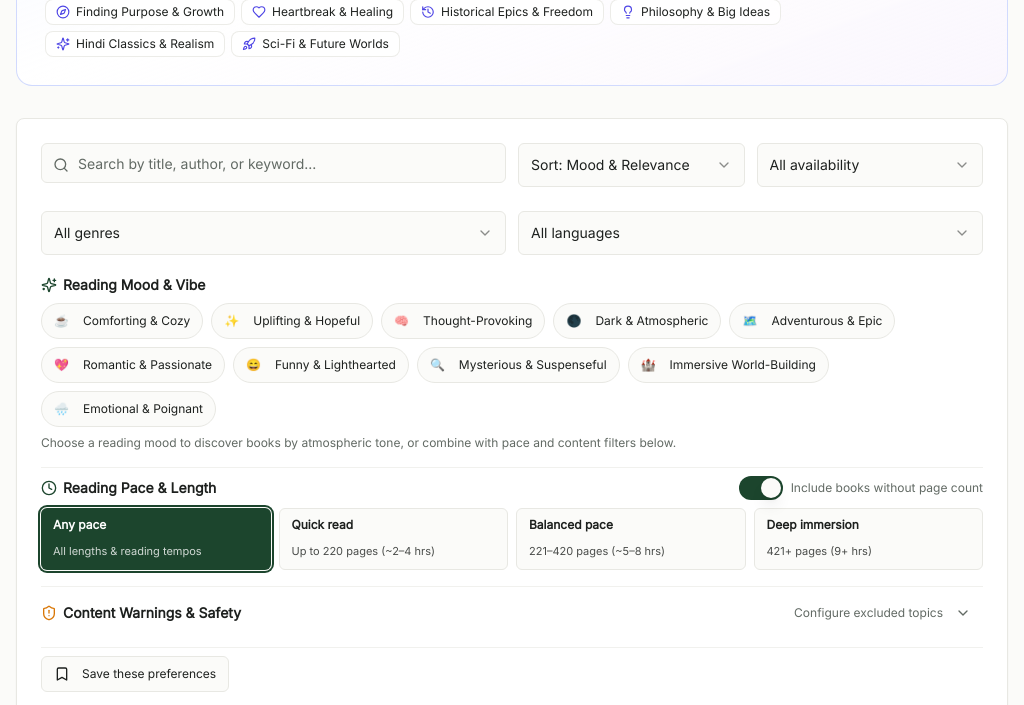
Test case: Discovery Page with Mood & Pace Filters › filters books by mood and shows explainable badges
(page scrolled)
// Select "Comforting & Cozy" mood
Click the button "☕ Comforting & Cozy" at [122, 321], box [41,303,203,339]
(page scrolled)
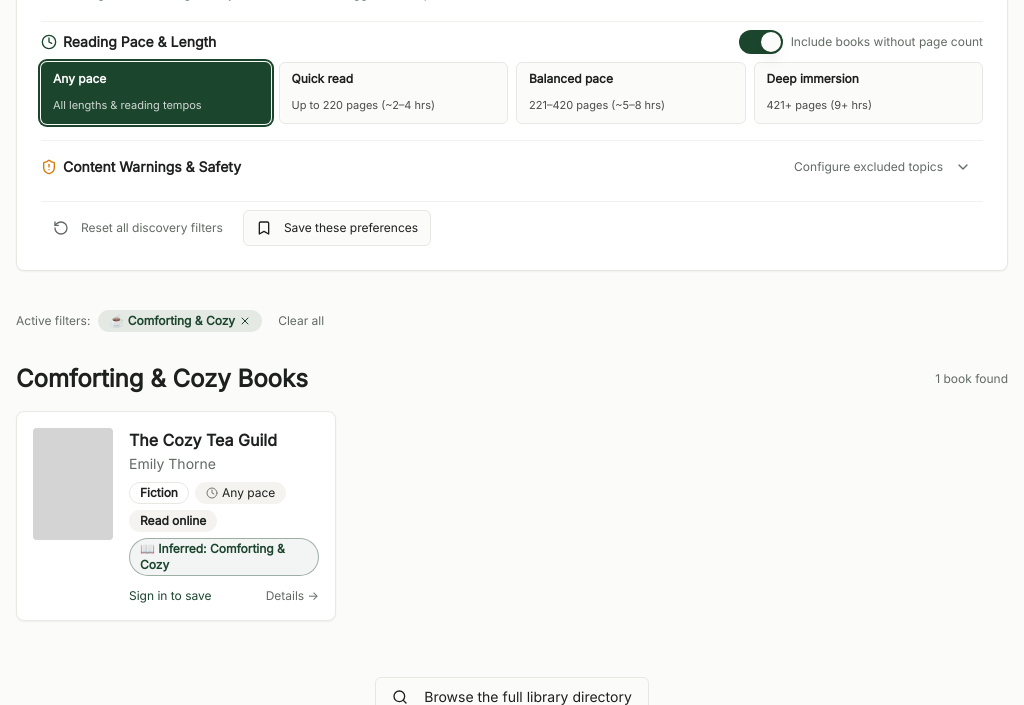
Check: the heading "The Cozy Tea Guild" is shown, box [129,430,277,450]
Check: the text "☕ Comforting & Cozy" is shown, box [98,310,262,332]
